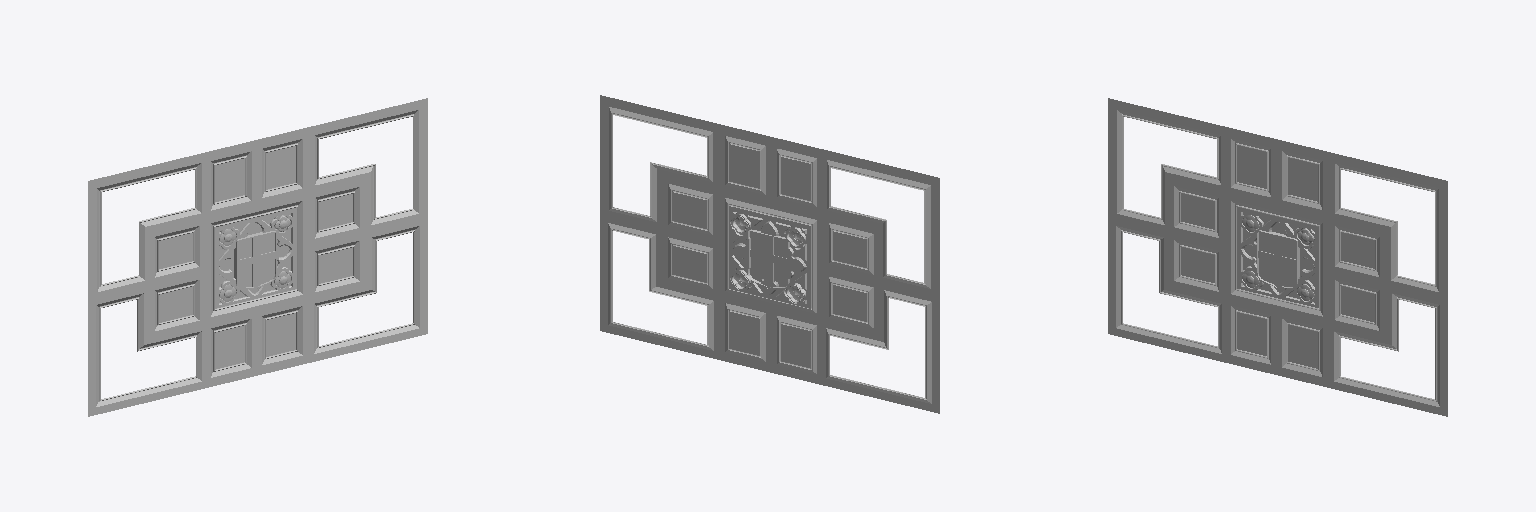
File: Template006_Template007.obj
3 views of the same model, side by side, from view 1: azimuth 30°, elevation 25°; view 2: azimuth 150°, elevation 25°; view 3: azimuth 330°, elevation 25° (orthographic).
Parts seen in each view (by area): view 1: Template.006_Template.007; view 2: Template.006_Template.007; view 3: Template.006_Template.007.
Boxes of the visible parts, x1,y1,x2,y2 form: Template.006_Template.007: [88, 98, 427, 416]; Template.006_Template.007: [600, 95, 939, 413]; Template.006_Template.007: [1108, 98, 1447, 416].
Size of the model in its own units: 6.38 by 4.24 by 0.1367.